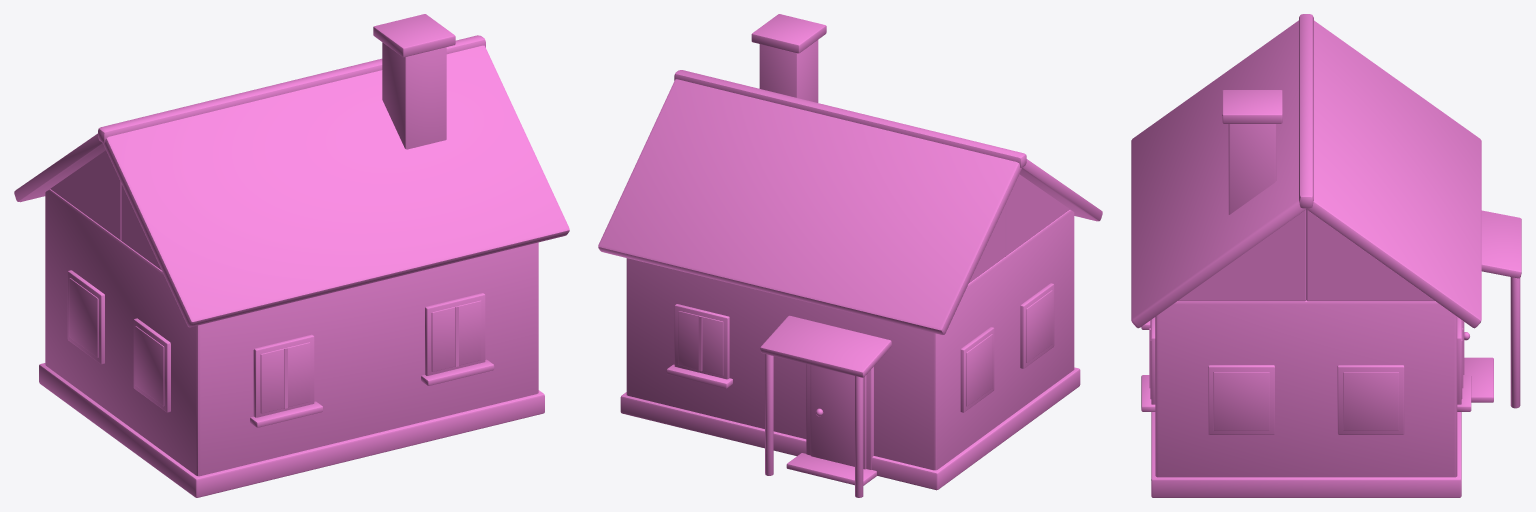
File: House_A.fbx
3 views of the same model, side by side, from view 1: azimuth 30°, elevation 25°; view 2: azimuth 150°, elevation 25°; view 3: azimuth 270°, elevation 25° (orthographic). The views are drawn at different scales.
Visible parts, largest first — view 1: Body, Paint; view 2: Body, Paint; view 3: Body, Paint.
Boxes of the visible parts, x1,y1,x2,y2 form: Body: (14, 14, 569, 497); Paint: (45, 189, 538, 476); Body: (598, 14, 1102, 497); Paint: (626, 210, 1074, 470); Body: (1131, 14, 1521, 497); Paint: (1155, 300, 1457, 477).
Size of the model in its own units: 20.2 by 18.5 by 18.11.
1 material, 1 textured.
